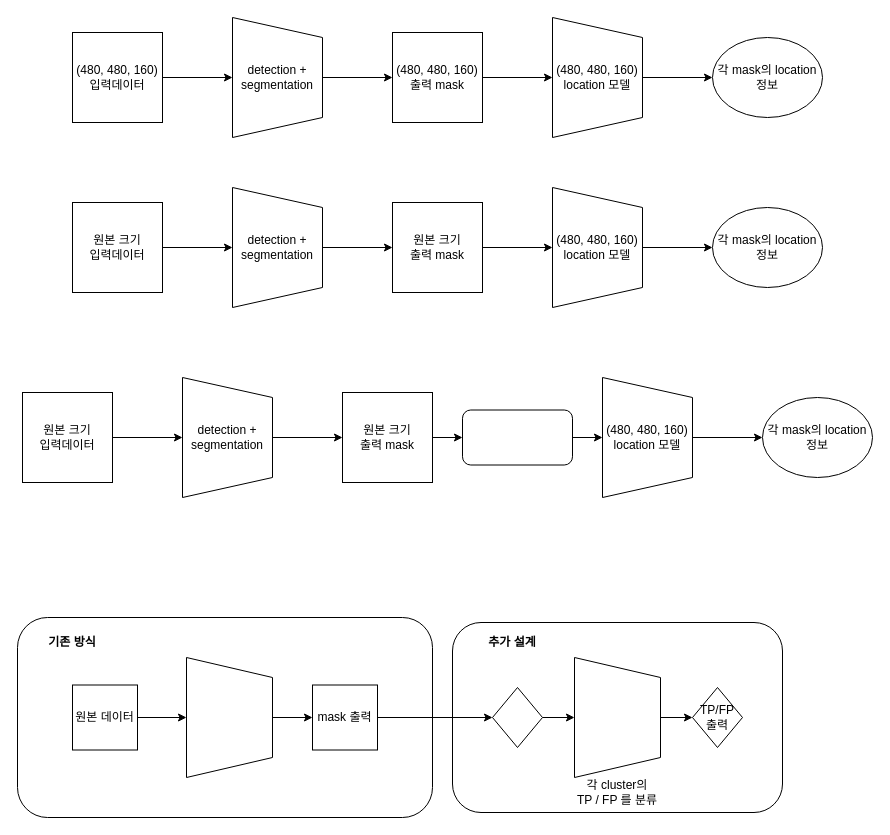
Image size: 890x835. Some labels were removed from this diagram. Here are the shapes that lost their labels. From the top down, the box of each, then its label:
(462, 409, 572, 465): (480, 480, 160) location 모델 preprocessing
(186, 656, 272, 778): segmentation
(492, 686, 542, 748): cluster 추출
(574, 656, 660, 778): classification
